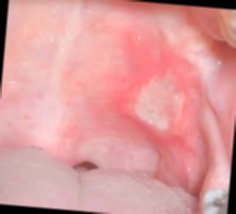Ulcer: (129, 64, 189, 138)
